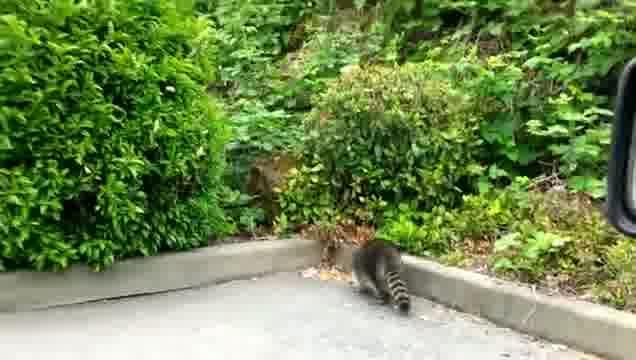raccoon: (352, 237, 413, 314)
